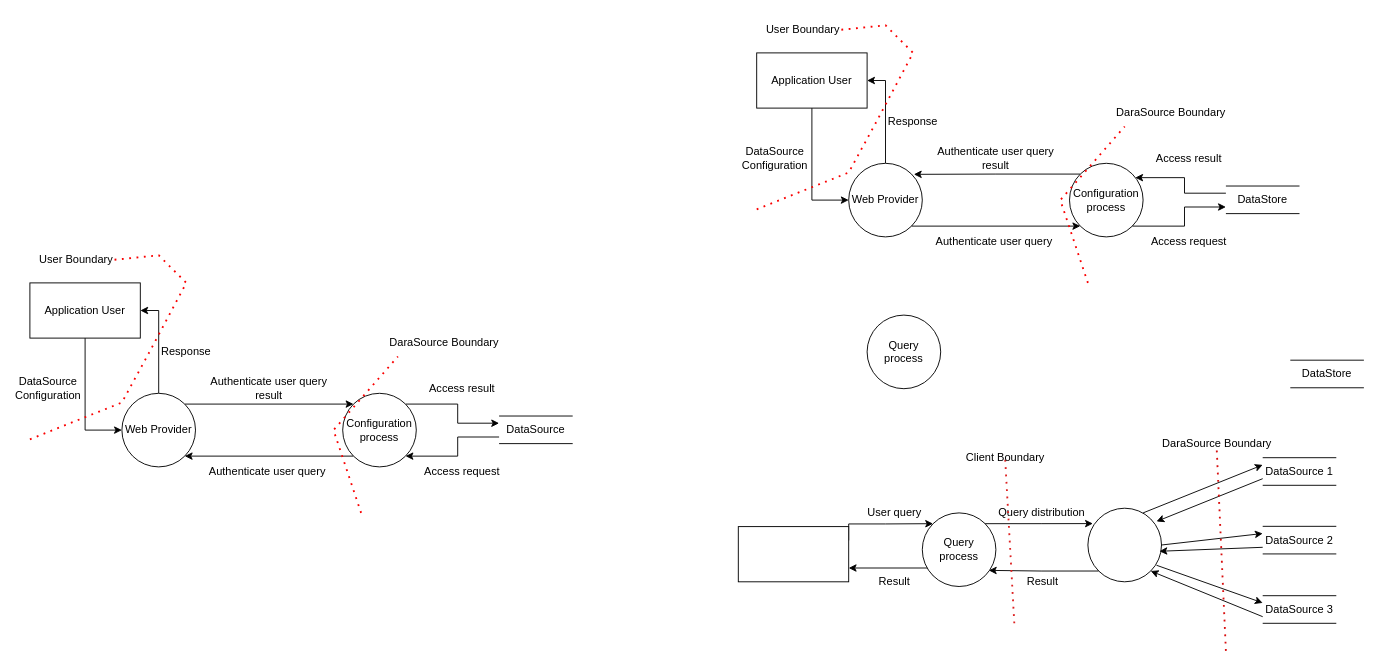
This 1381x668 diagram has some shape labels left out. Each missing label, with the centre of its shape:
"Connected User" belongs at point 793,554.
"DB Connector" belongs at point 1124,544.
